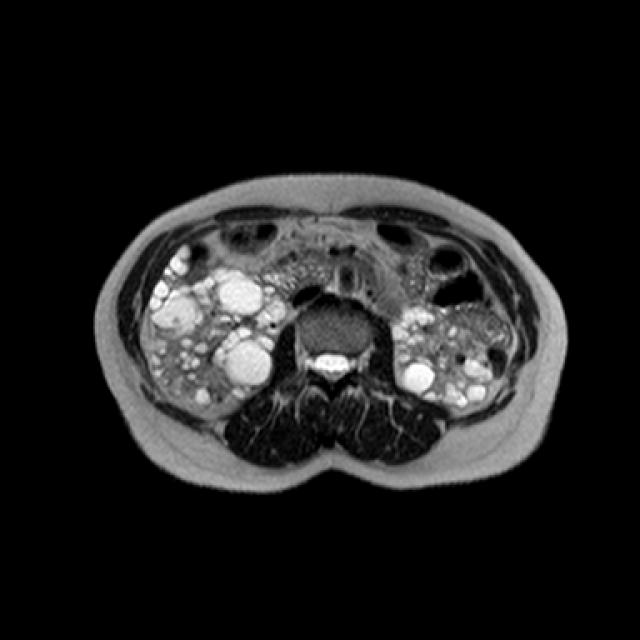sag: (146, 264, 285, 413)
sol: (389, 303, 508, 411)
